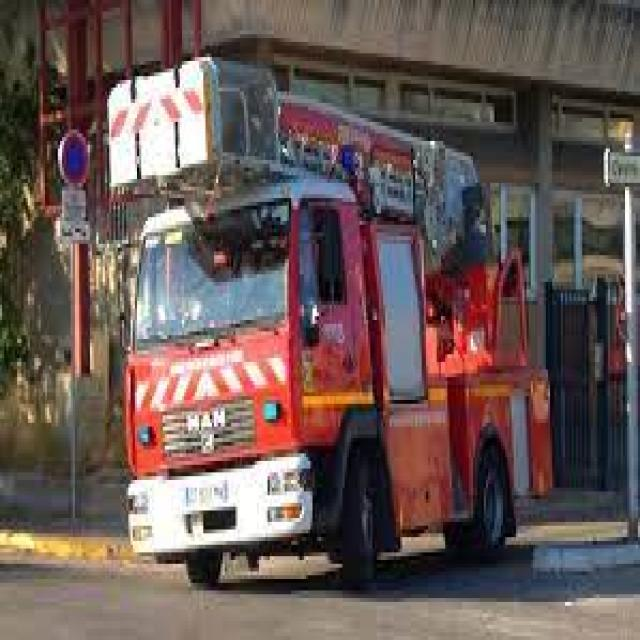pompier: (126, 126, 532, 571)
